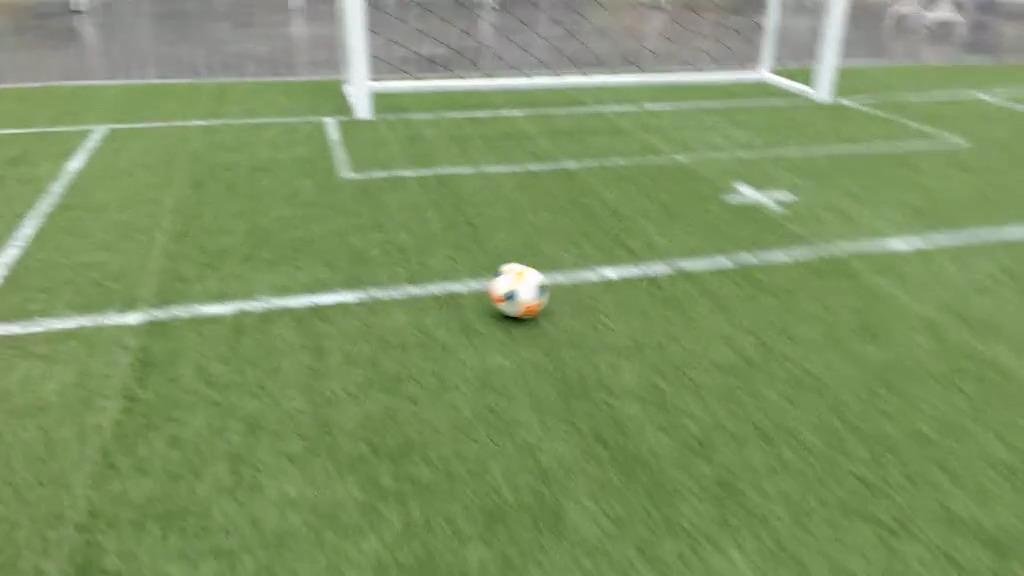ball: (492, 263, 549, 318)
